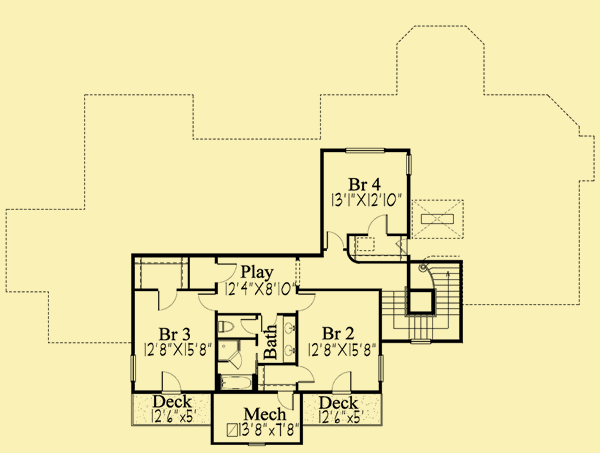door: (326, 369, 353, 394), (194, 291, 220, 313), (156, 289, 179, 313), (367, 214, 391, 236), (326, 229, 348, 252), (293, 291, 317, 312), (215, 262, 237, 284), (158, 372, 182, 392), (297, 366, 317, 385), (240, 316, 259, 336), (275, 392, 294, 411), (227, 352, 246, 370)
large_sink: (216, 319, 237, 334)
small_sink: (280, 315, 297, 364)
stairs: (379, 263, 461, 342)
tub: (219, 373, 252, 392)
window: (343, 147, 385, 156), (375, 353, 385, 382), (130, 353, 137, 382), (405, 154, 413, 179)
